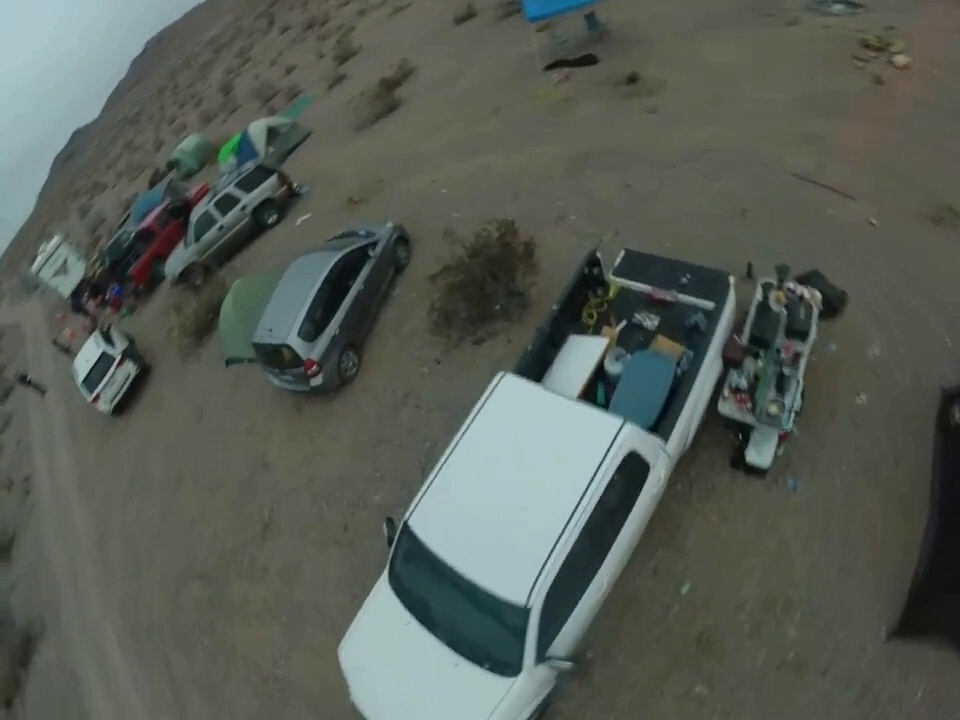araba: (249, 214, 413, 397), (162, 158, 298, 290), (66, 317, 152, 420)
kamyonet: (333, 242, 758, 716)
